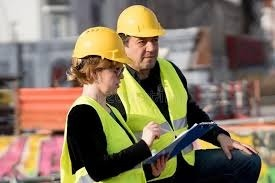helmet: (70, 25, 139, 64), (117, 4, 172, 39)
person with full safety: (60, 23, 142, 183), (118, 2, 207, 143)
safety vest: (118, 68, 196, 175), (60, 97, 146, 183)
